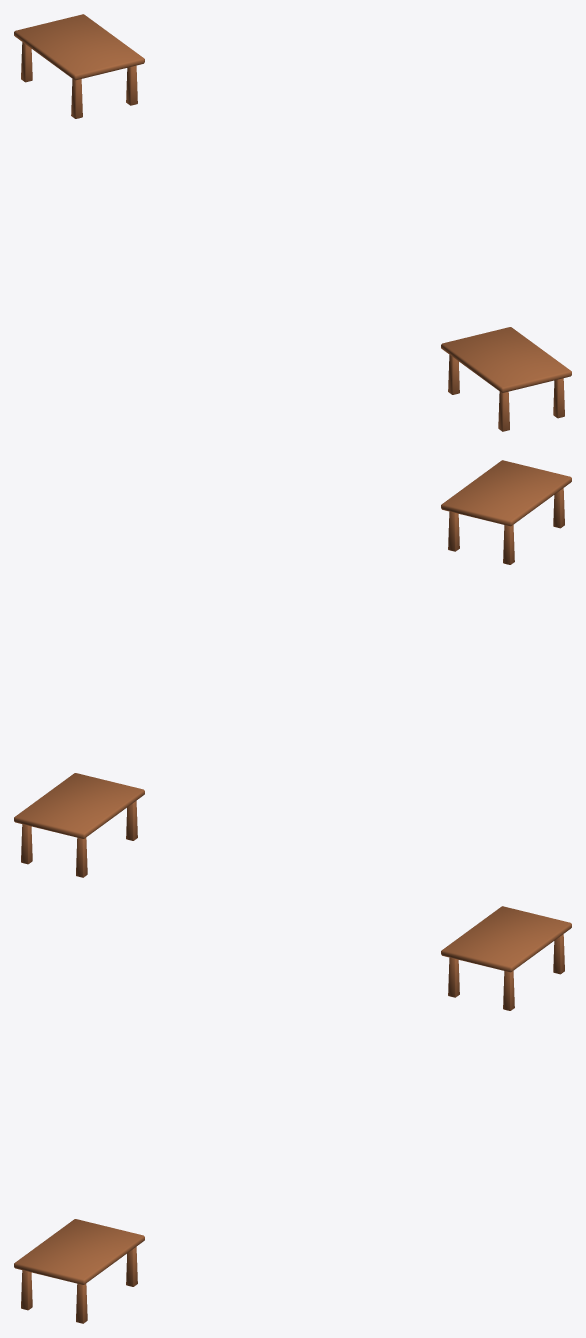
File: Tables.glb
3 renders of one model, top to bottom at view 1: azimuth 30°, elevation 25°; view 2: azimuth 150°, elevation 25°; view 3: azimuth 330°, elevation 25°, orthographic.
Parts seen in each view (by area): view 1: Tables; view 2: Tables; view 3: Tables.
Boxes of the visible parts, bbox=[...] form: Tables: bbox=[14, 14, 571, 431]; Tables: bbox=[14, 460, 571, 877]; Tables: bbox=[14, 906, 571, 1323].
Size of what is drawn, in the model's own units: 1.5 by 0.9601 by 17.88.
1 material, 1 textured.
